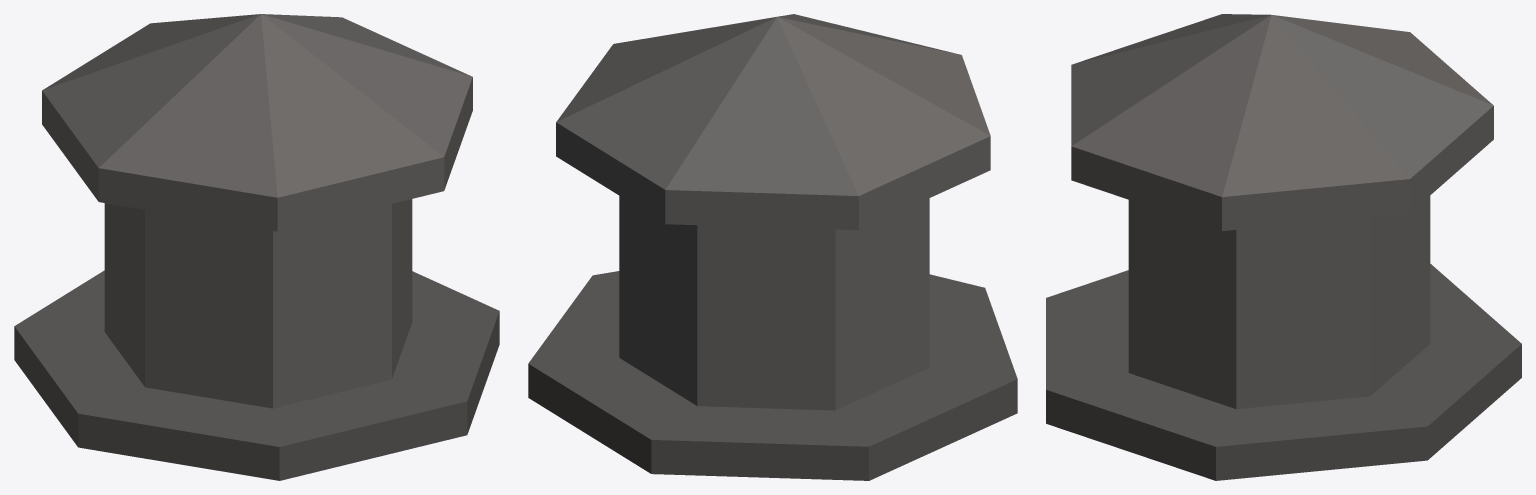
Rendered from SM_Props_Roof_Chimney_06.fbx.
The picture shows the model from 3 angles, left to right: view 1: azimuth 30°, elevation 25°; view 2: azimuth 150°, elevation 25°; view 3: azimuth 270°, elevation 25°; orthographic projection.
Visible parts, largest first — view 1: SM_Props_Roof_Chimney_06; view 2: SM_Props_Roof_Chimney_06; view 3: SM_Props_Roof_Chimney_06.
Boxes of the visible parts, box(x1,y1,x2,y2) form: SM_Props_Roof_Chimney_06: box(14, 14, 499, 480); SM_Props_Roof_Chimney_06: box(528, 14, 1017, 480); SM_Props_Roof_Chimney_06: box(1046, 14, 1521, 480).
Bounding box in the file's own units: 195 × 160 × 190.
